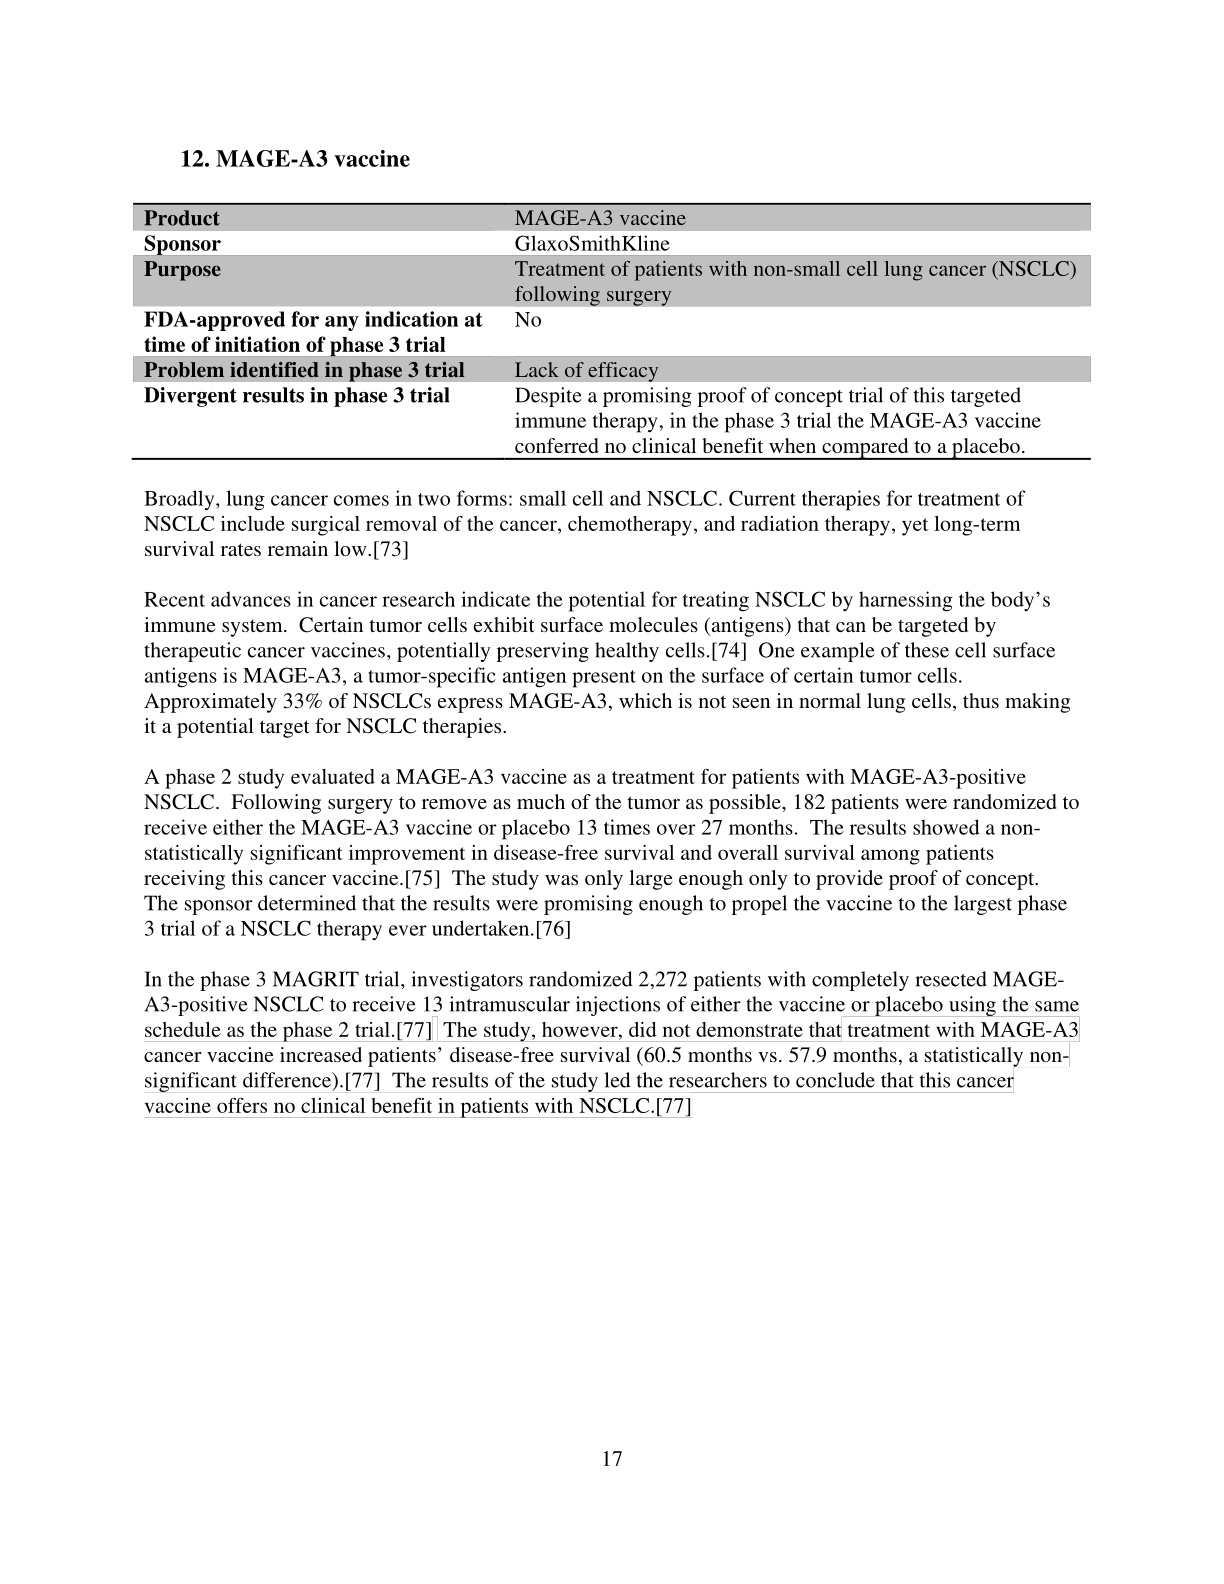partial_lined: (132, 201, 1092, 462)
